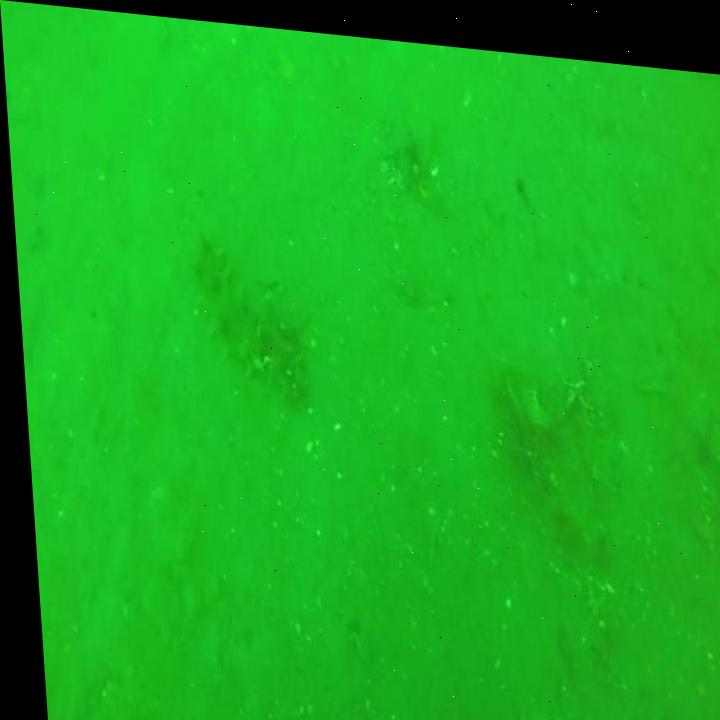holothurian: (192, 237, 300, 402)
